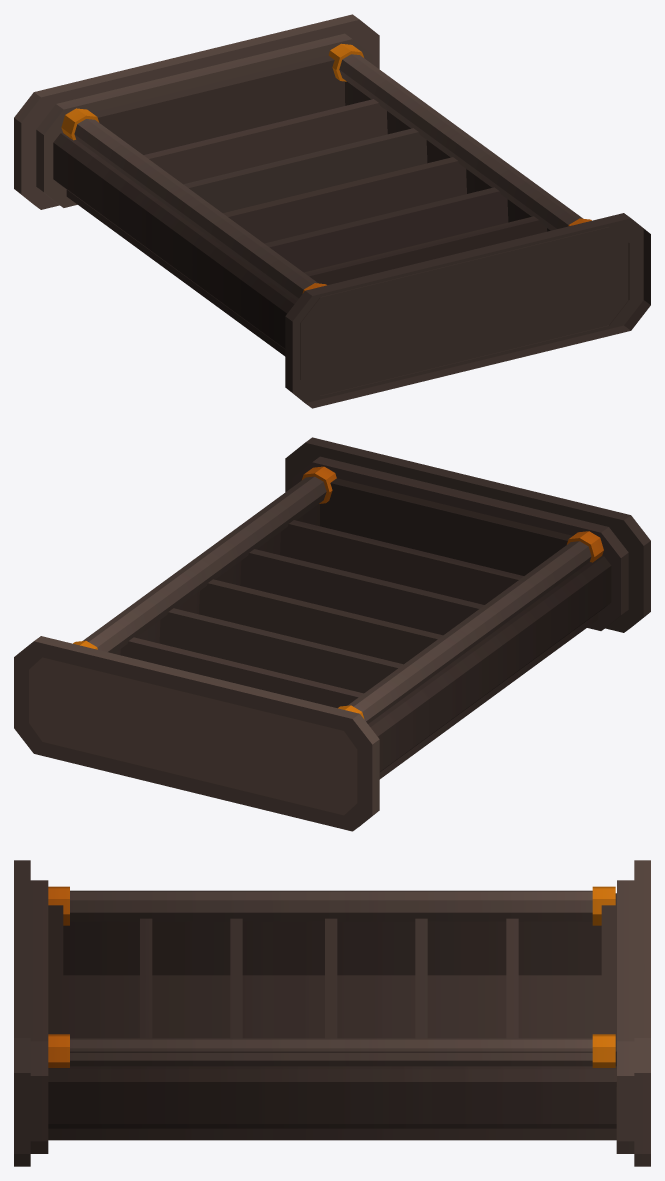
The model's file is Bookshelf 01.FBX.
3 renders of one model, top to bottom at view 1: azimuth 30°, elevation 25°; view 2: azimuth 150°, elevation 25°; view 3: azimuth 270°, elevation 25°, orthographic. The views are drawn at different scales.
Parts seen in each view (by area): view 1: Bookshelf 01; view 2: Bookshelf 01; view 3: Bookshelf 01.
Part boxes in pixels (x1,y1,x2,y2): Bookshelf 01: (14, 14, 650, 408); Bookshelf 01: (14, 437, 650, 831); Bookshelf 01: (14, 860, 650, 1166).
Size of the model in its own units: 199 by 59.62 by 267.
